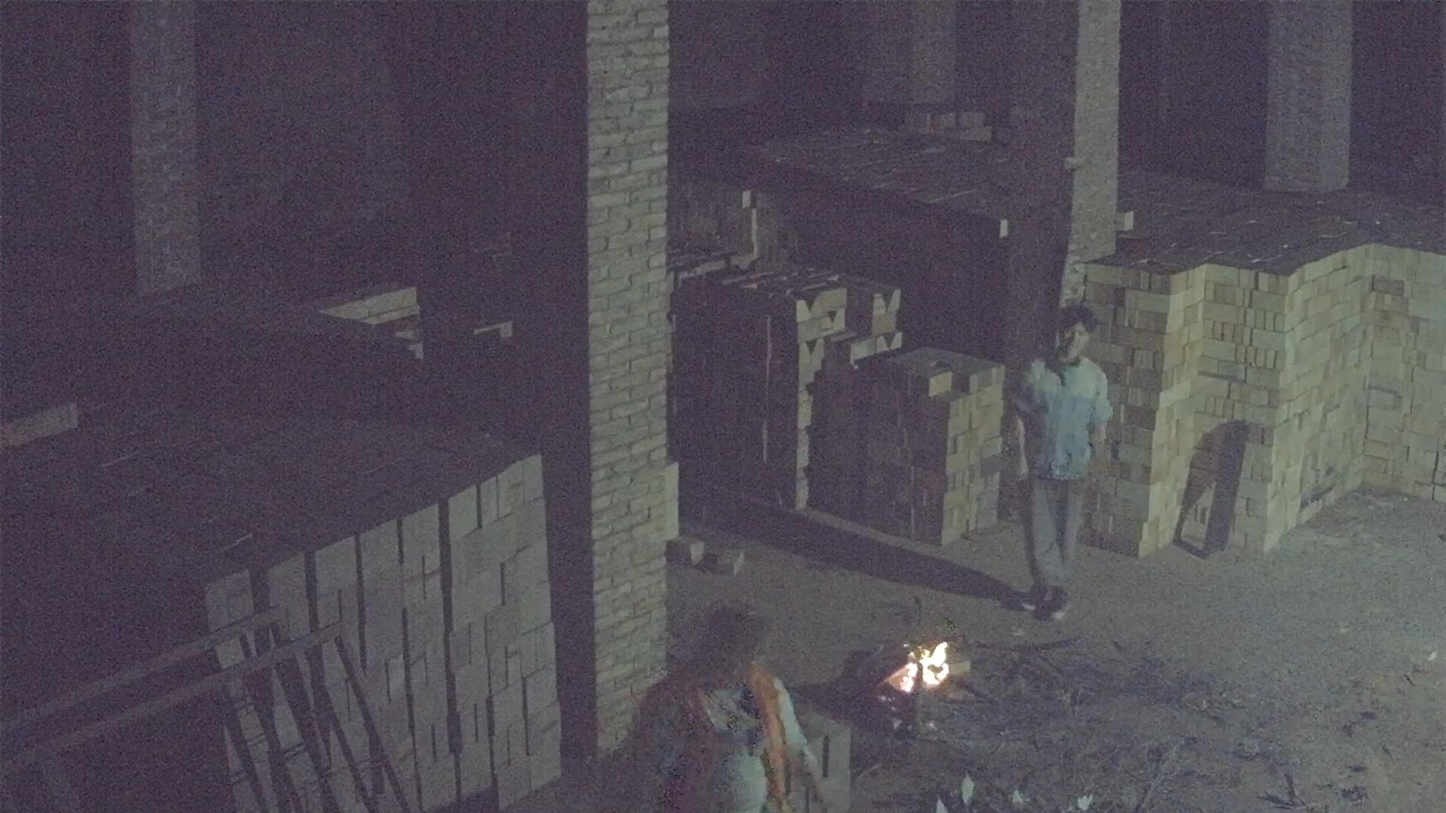fire: (889, 642, 950, 693)
